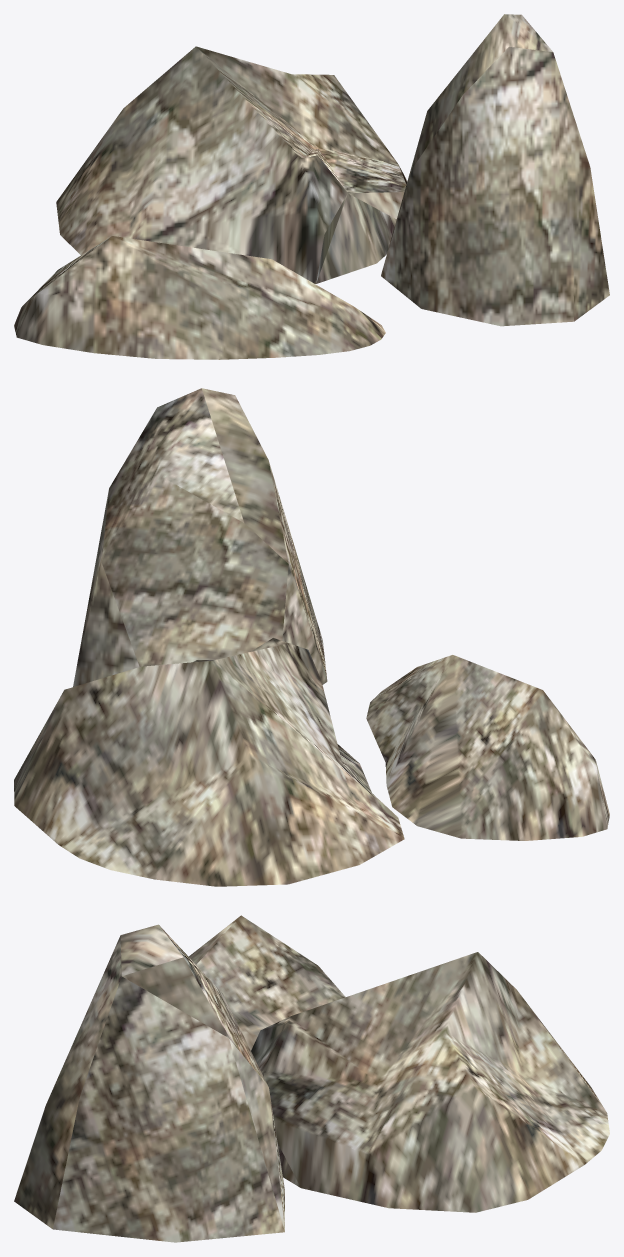
Rendered from geo_medit_02.dae.
The picture shows the model from 3 angles, top to bottom: view 1: azimuth 30°, elevation 25°; view 2: azimuth 150°, elevation 25°; view 3: azimuth 270°, elevation 25°; orthographic projection. The views are drawn at different scales.
Parts seen in each view (by area): view 1: stonemine_granite_b-Pivot; view 2: stonemine_granite_b-Pivot; view 3: stonemine_granite_b-Pivot.
Part boxes in pixels (box(x1,y1,x2,y2)): stonemine_granite_b-Pivot: box(14, 14, 609, 359); stonemine_granite_b-Pivot: box(14, 388, 609, 886); stonemine_granite_b-Pivot: box(14, 915, 609, 1242).
Bounding box in the file's own units: 7.24 × 6.84 × 3.51.
